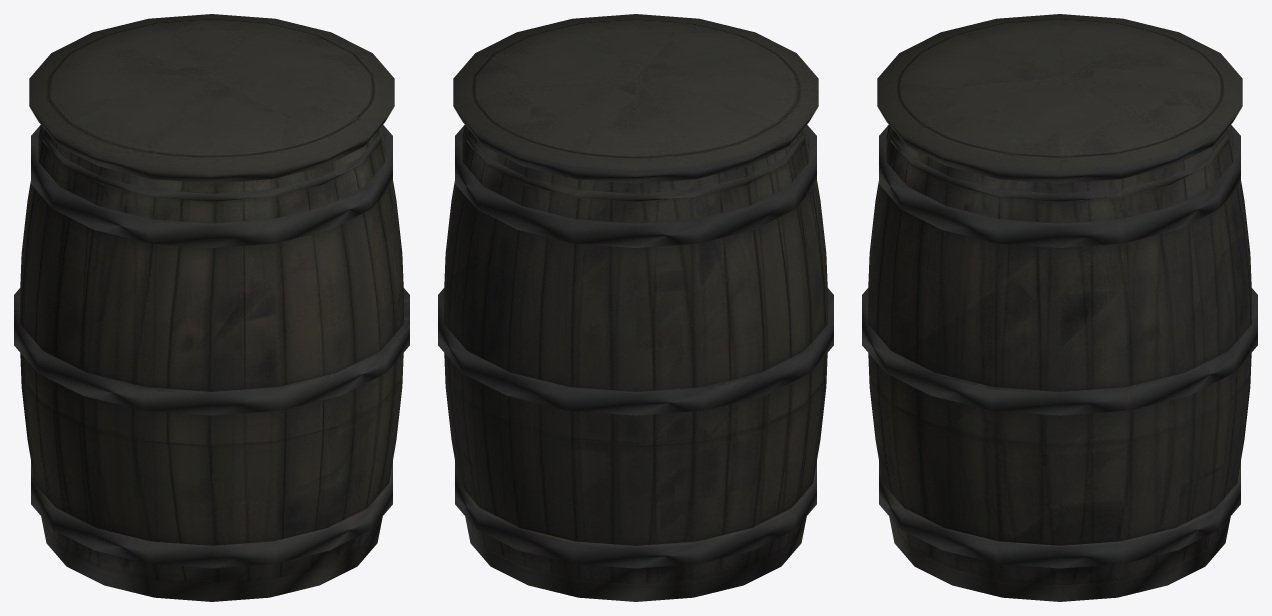
File: barrel_kumis.glb
The picture shows the model from 3 angles, left to right: view 1: azimuth 30°, elevation 25°; view 2: azimuth 150°, elevation 25°; view 3: azimuth 270°, elevation 25°; orthographic projection.
Parts seen in each view (by area): view 1: barrel_kumis; view 2: barrel_kumis; view 3: barrel_kumis.
Part boxes in pixels (x1,y1,x2,y2): barrel_kumis: (14,14,409,601); barrel_kumis: (438,14,833,601); barrel_kumis: (862,14,1257,601).
Bounding box in the file's own units: 0.864 × 1.08 × 0.8509.
1 material, 1 textured.
